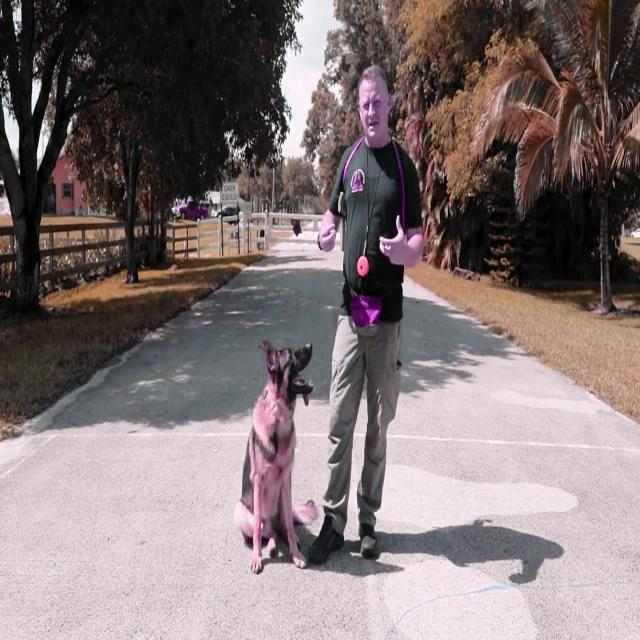Unleashed_Dog: (234, 315, 386, 576)
